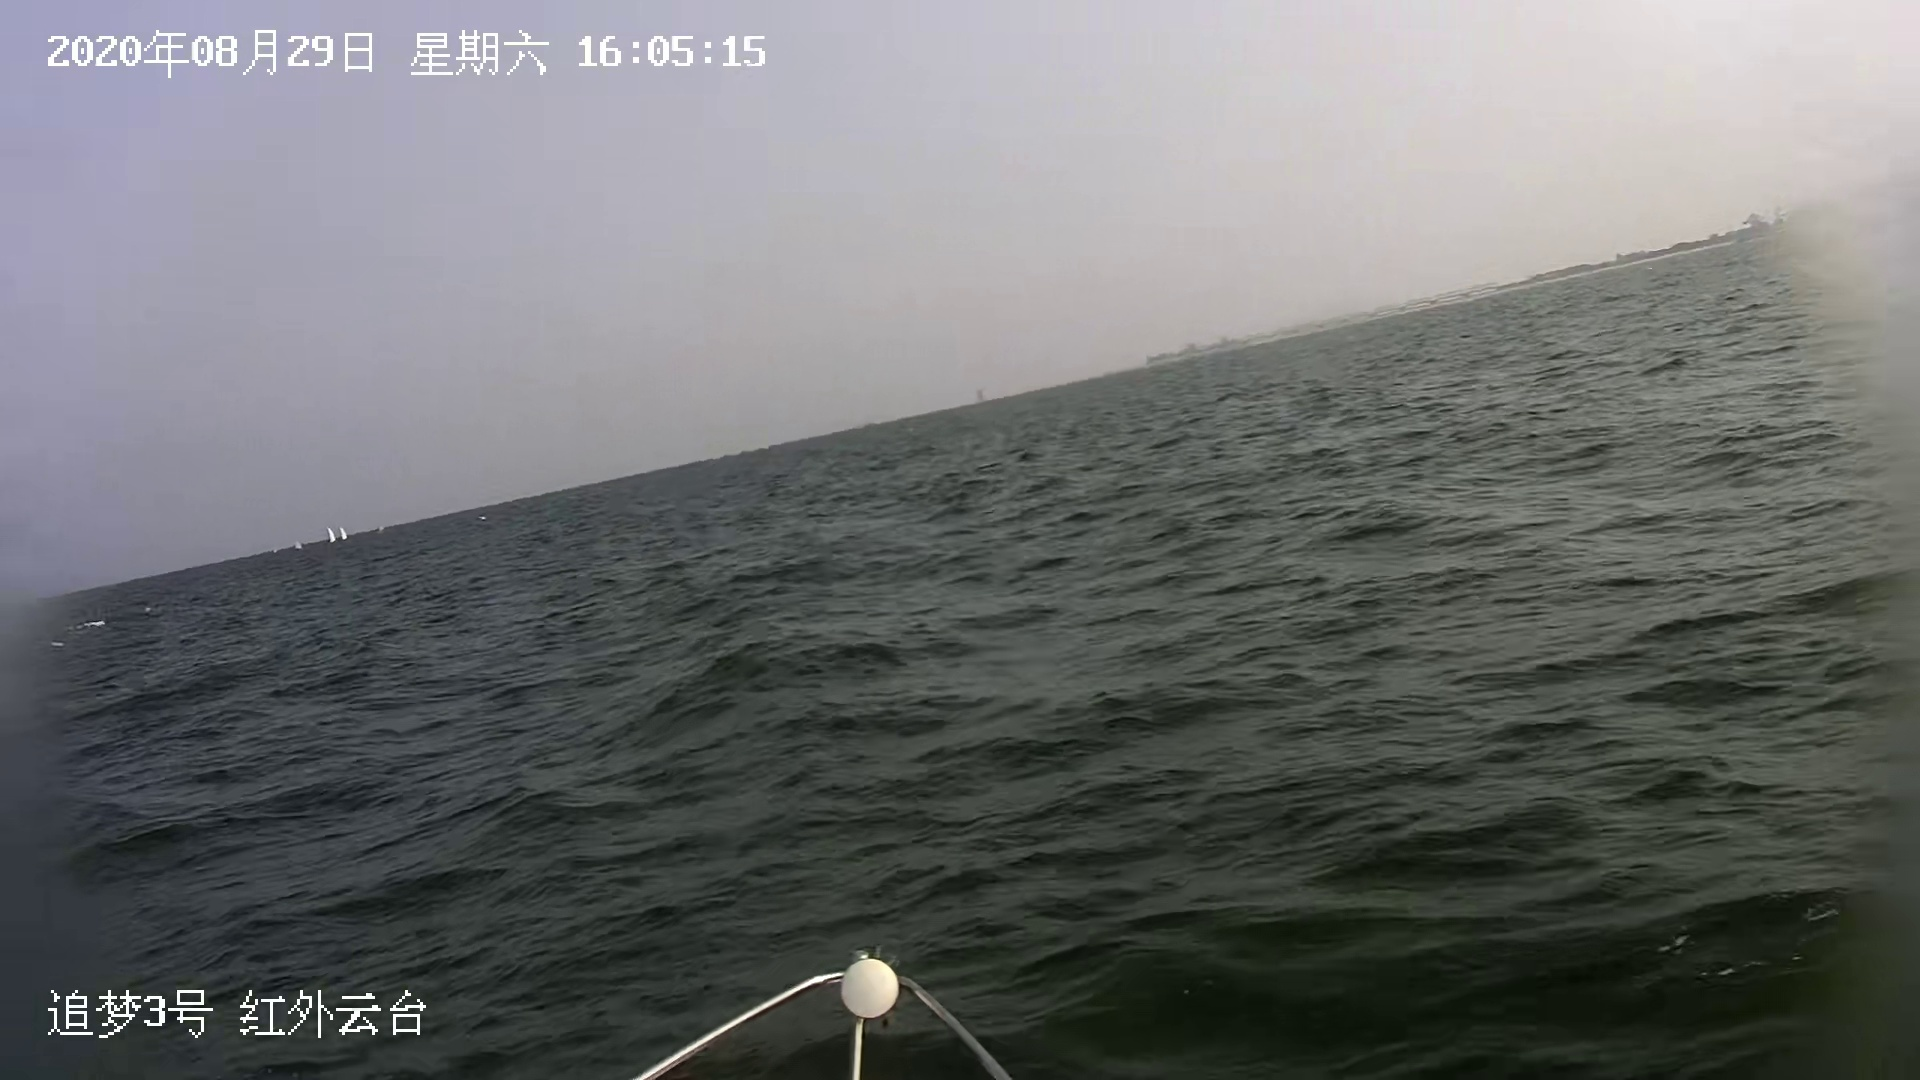barrier: (326, 525, 338, 545), (975, 389, 986, 404), (340, 525, 348, 541), (294, 541, 305, 551)
coast: (1145, 193, 1882, 371)
